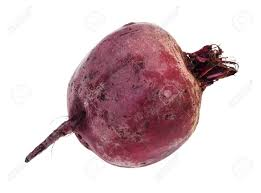beet: (25, 23, 238, 168)
